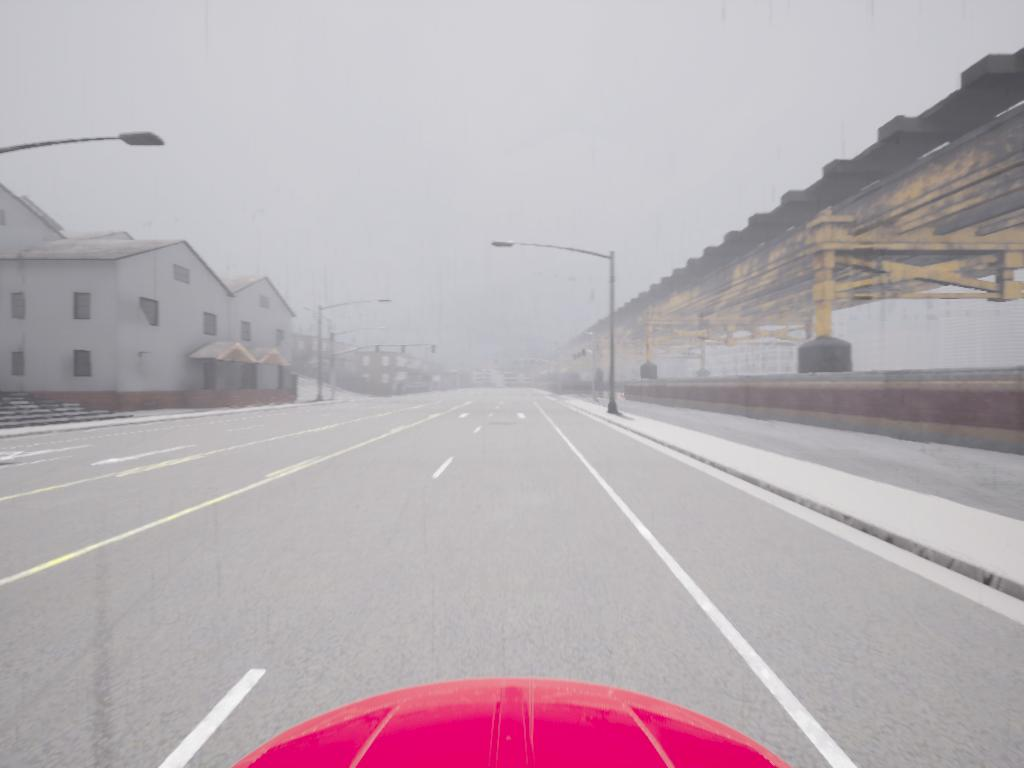traffic_light: (433, 345, 439, 356), (402, 345, 407, 357), (377, 345, 382, 356), (578, 353, 583, 363), (583, 349, 586, 360), (574, 355, 578, 363)
